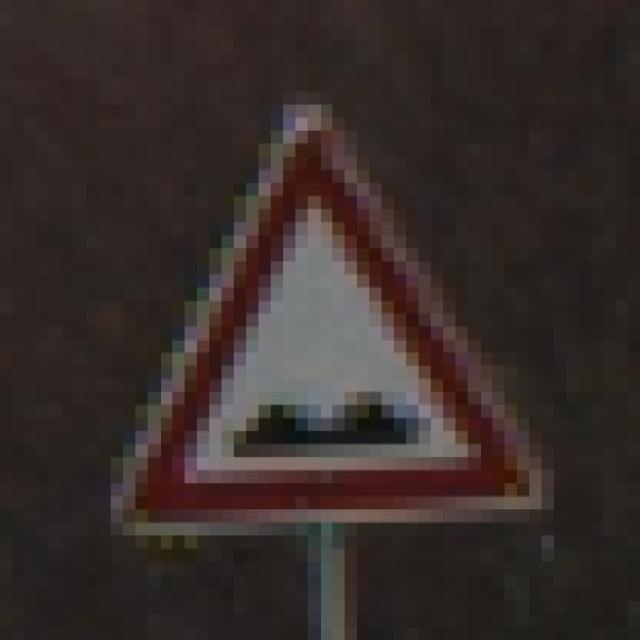Uneven Road: (86, 92, 554, 536)
